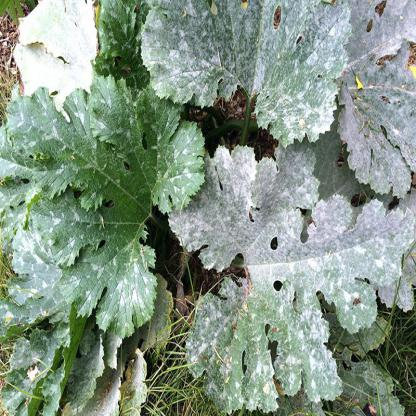Squash Powdery mildew leaf: (163, 147, 406, 415), (139, 1, 352, 136), (332, 2, 415, 198)
